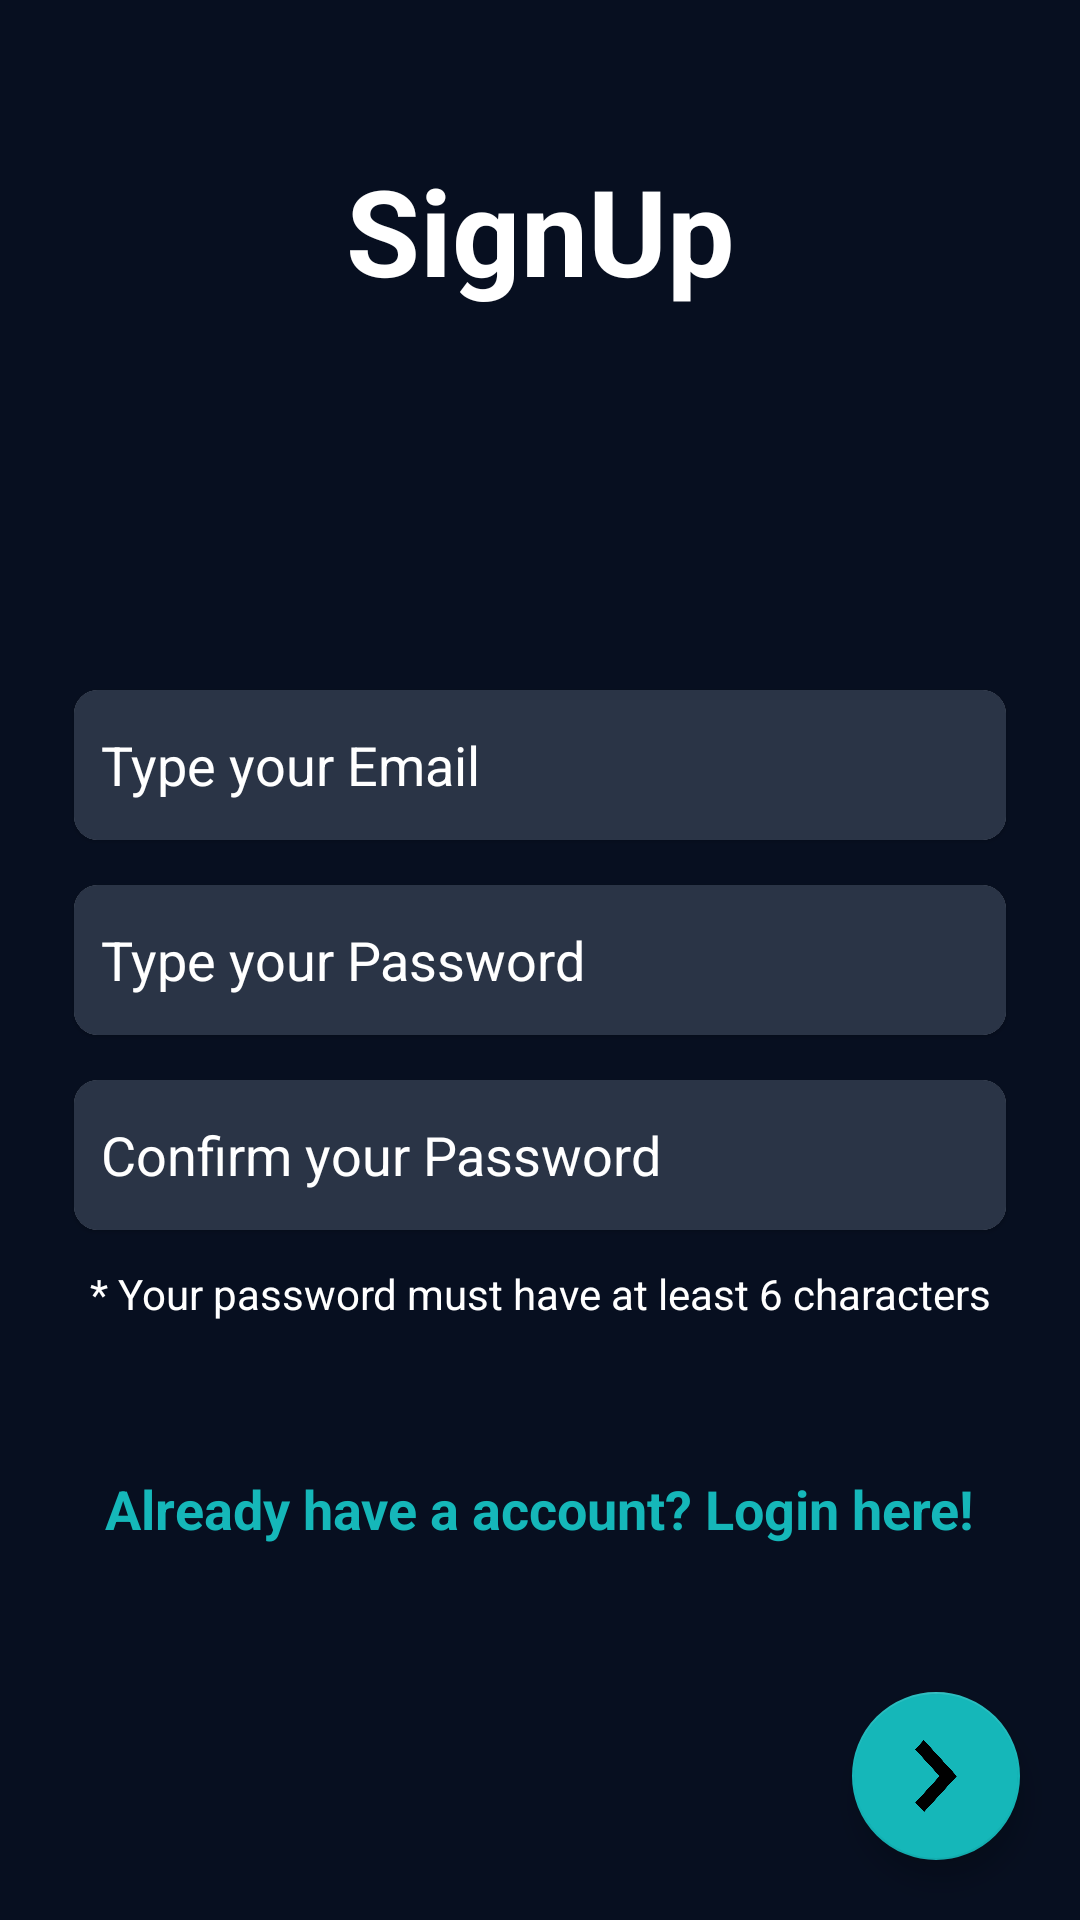

Locate icon controls on the screen. Image size 1080px×1920px, boxes as box=[x1, y1, x2, y2].
rightarrow: box=[852, 1692, 1020, 1860]
